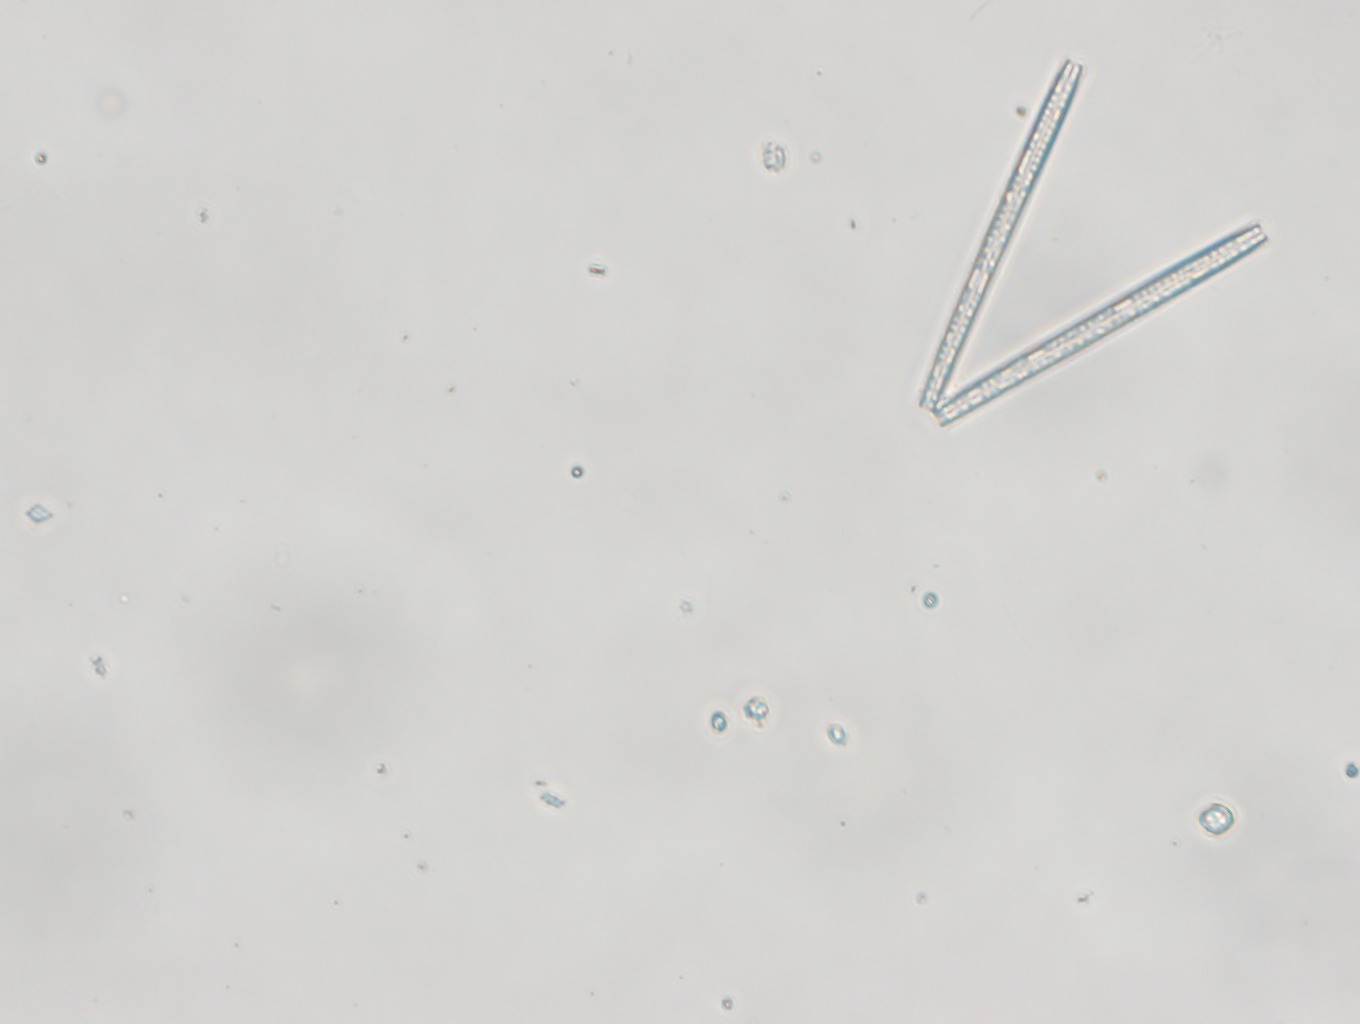thalassionema frauenfeldii: (914, 56, 1271, 432)
